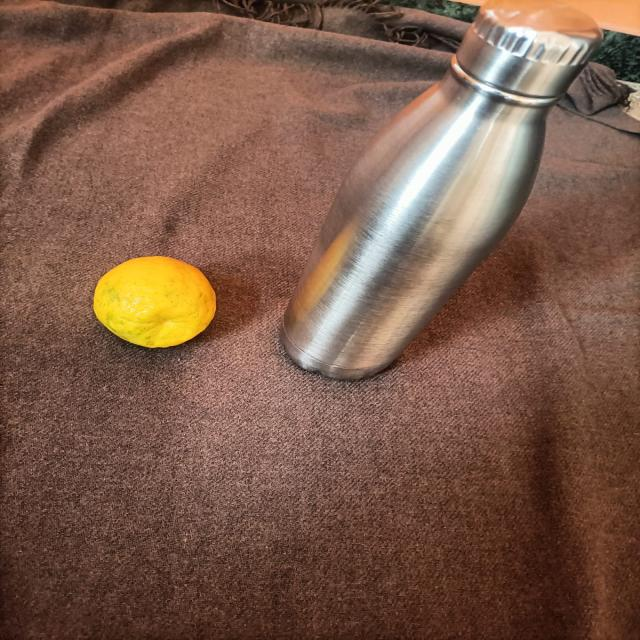bottle: (261, 0, 586, 400)
orange: (73, 250, 236, 362)
